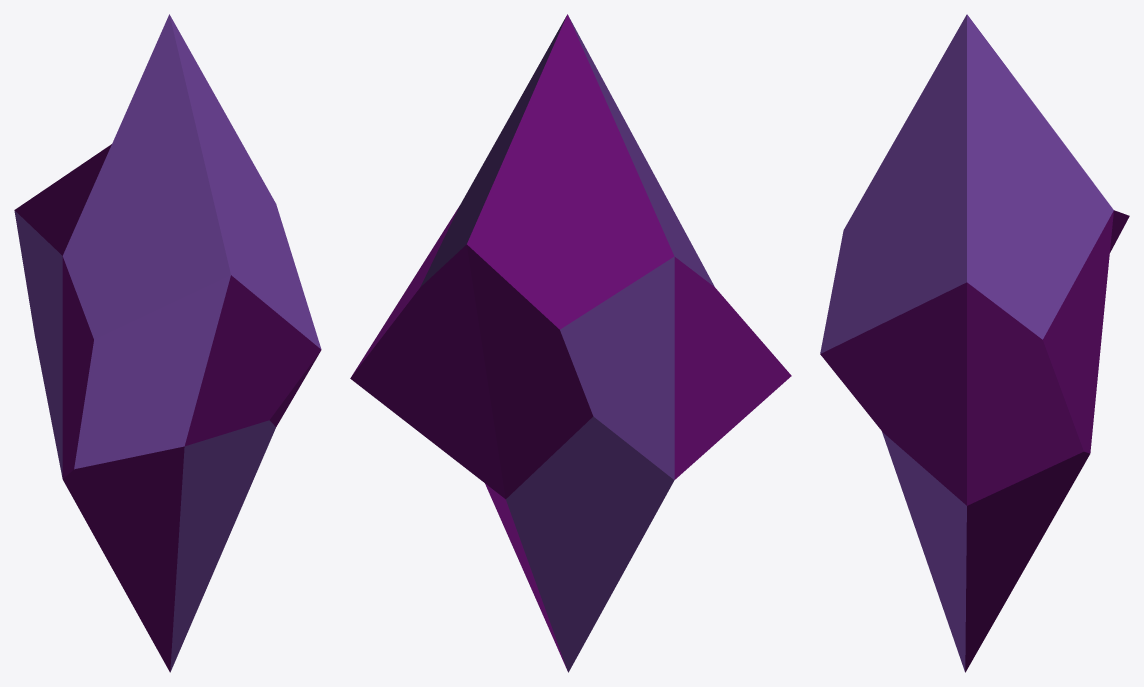
File: Enemy.fbx
3 views of the same model, side by side, from view 1: azimuth 30°, elevation 25°; view 2: azimuth 150°, elevation 25°; view 3: azimuth 270°, elevation 25° (orthographic).
Visible parts, largest first — view 1: Cube; view 2: Cube; view 3: Cube.
Part boxes in pixels (box(x1,y1,x2,y2)): Cube: box(14, 14, 321, 672); Cube: box(350, 14, 791, 672); Cube: box(820, 14, 1129, 672).
Bounding box in the file's own units: 298 × 589 × 251.
